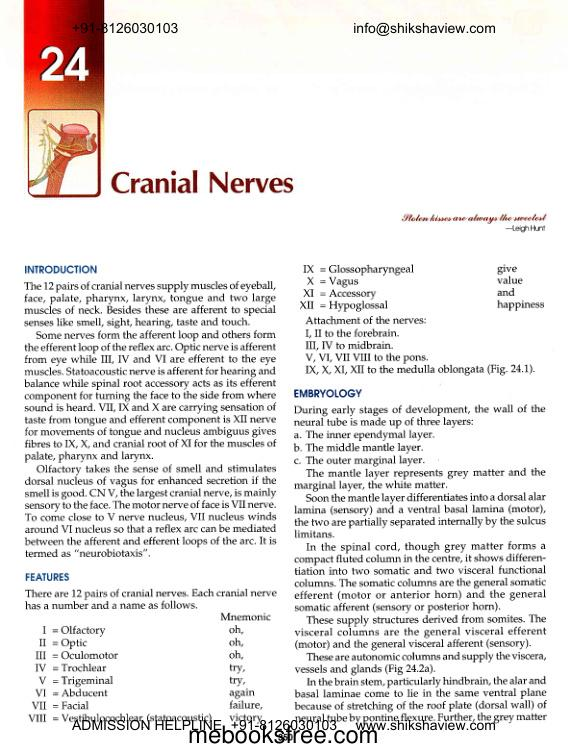chapter-heading: (109, 169, 295, 195)
list: (298, 262, 545, 377), (27, 612, 273, 723), (293, 429, 435, 467)
section-heading: (24, 264, 98, 275), (293, 388, 363, 399), (24, 572, 70, 582)
text: (23, 281, 278, 559), (293, 468, 548, 723), (293, 404, 547, 430), (23, 588, 278, 611)
